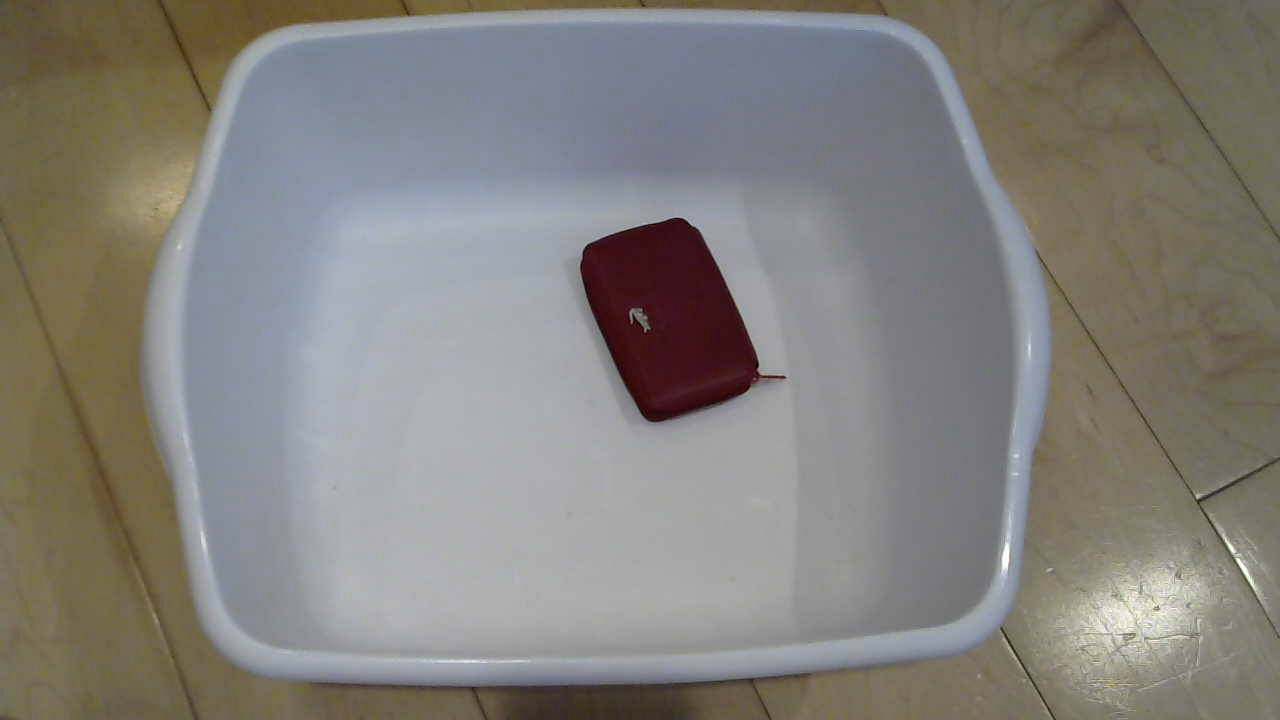wallet: (557, 198, 793, 438)
